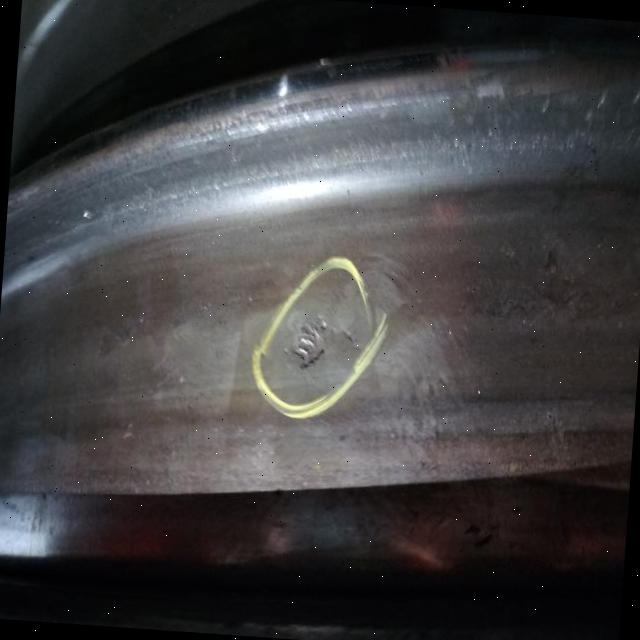Rollerpile: (284, 312, 363, 375)
